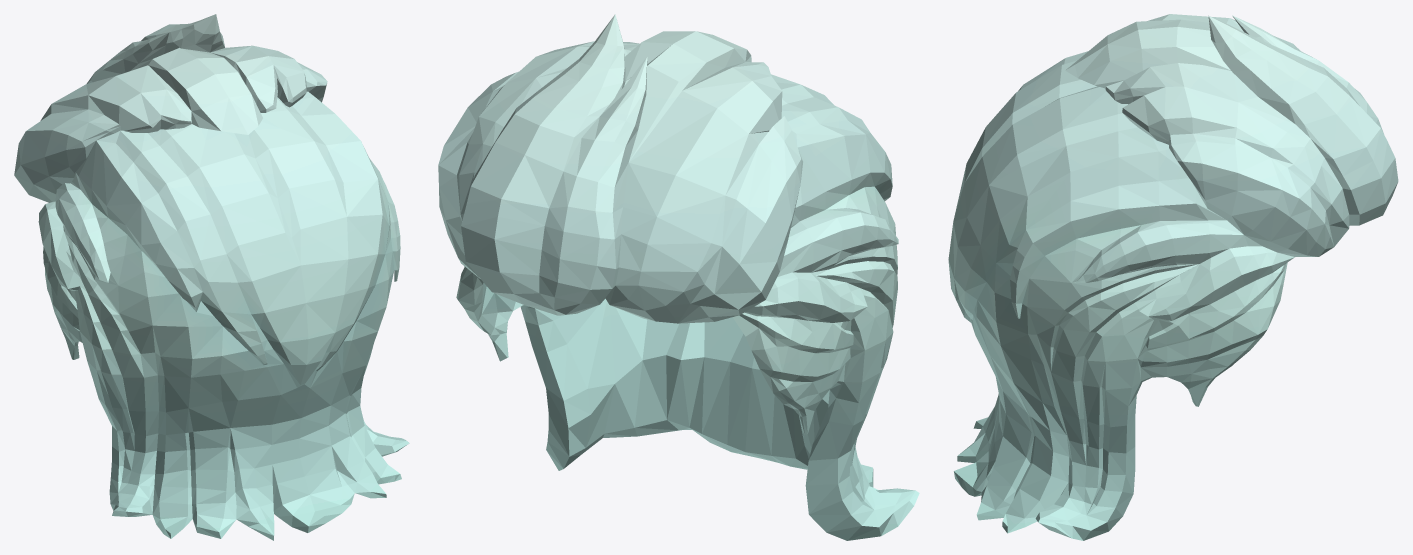
The model's file is CharSkyKid_Hair_RockStar.glb.
3 renders of one model, left to right at view 1: azimuth 30°, elevation 25°; view 2: azimuth 150°, elevation 25°; view 3: azimuth 270°, elevation 25°, orthographic. The views are drawn at different scales.
Parts seen in each view (by area): view 1: CharSkyKid_Hair_RockStar; view 2: CharSkyKid_Hair_RockStar; view 3: CharSkyKid_Hair_RockStar.
Boxes of the visible parts, x1,y1,x2,y2 form: CharSkyKid_Hair_RockStar: [14, 14, 409, 540]; CharSkyKid_Hair_RockStar: [438, 14, 919, 540]; CharSkyKid_Hair_RockStar: [948, 14, 1398, 540].
Size of the model in its own units: 2.51 by 3.45 by 2.96.
1 material, 1 textured.
